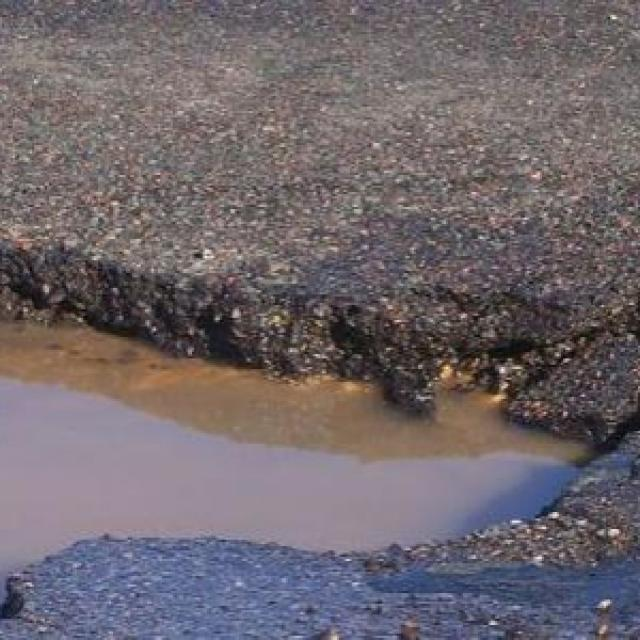pothole: (0, 246, 640, 606)
